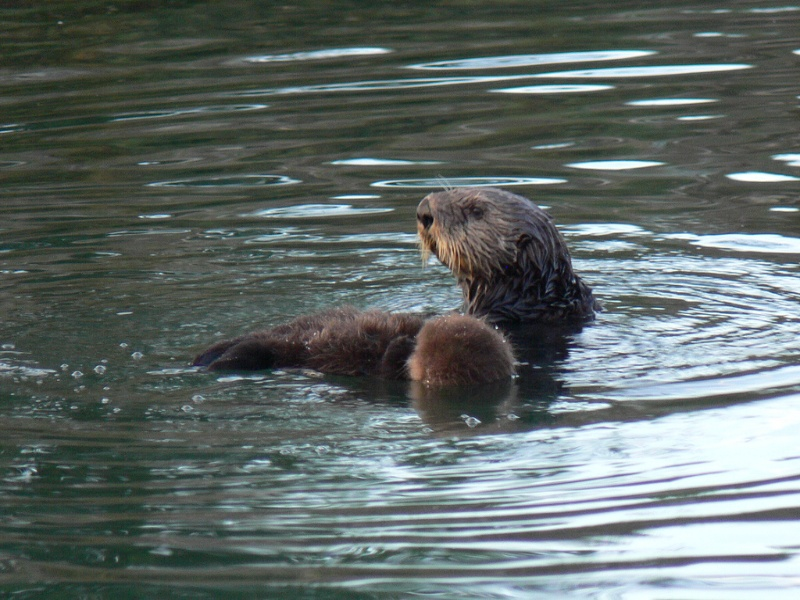minkish: (413, 183, 612, 328)
